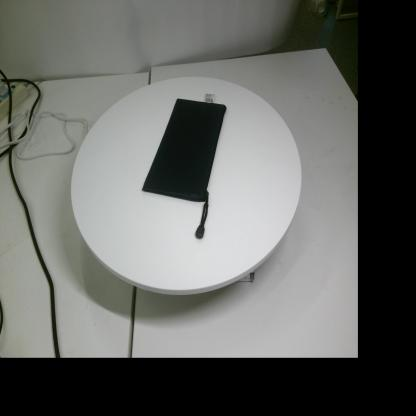Stationery: (142, 94, 227, 238)
